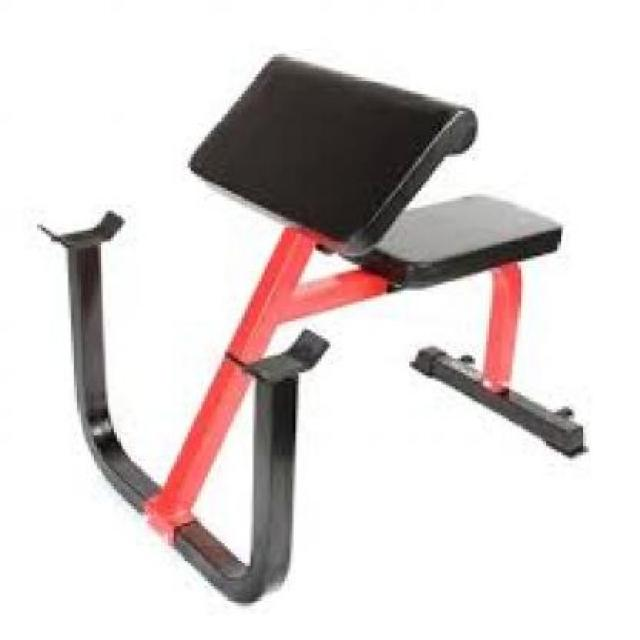arm curl machine: (37, 54, 586, 609)
